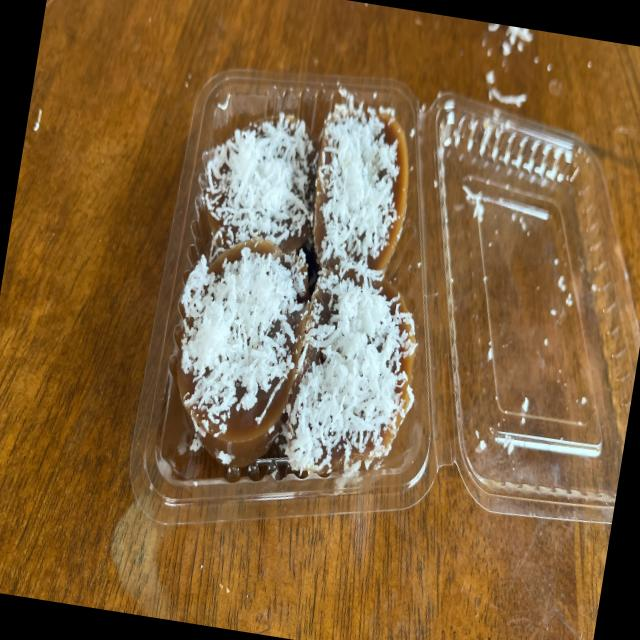Kuih lompang: (177, 241, 308, 467), (284, 271, 416, 476), (202, 114, 318, 258), (314, 98, 409, 271)
